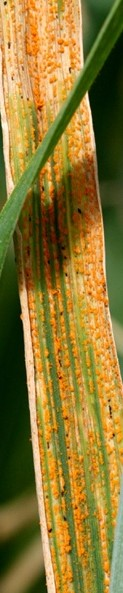Leaf Rust: (21, 56, 123, 560)
